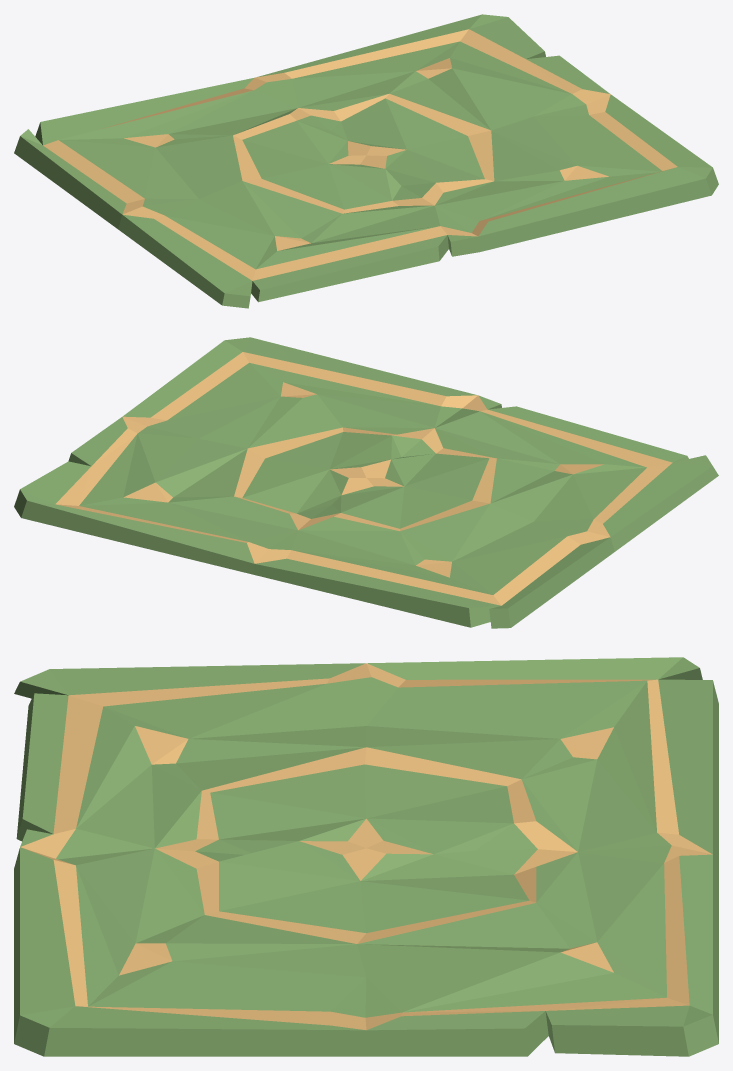
File: SquareRug_Green.fbx
The picture shows the model from 3 angles, top to bottom: view 1: azimuth 30°, elevation 25°; view 2: azimuth 150°, elevation 25°; view 3: azimuth 270°, elevation 25°; orthographic projection. The views are drawn at different scales.
Parts seen in each view (by area): view 1: SquareRug_Green; view 2: SquareRug_Green; view 3: SquareRug_Green.
Boxes of the visible parts, bbox=[...] form: SquareRug_Green: bbox=[14, 14, 718, 308]; SquareRug_Green: bbox=[14, 337, 718, 628]; SquareRug_Green: bbox=[14, 657, 718, 1056].
Bounding box in the file's own units: 10.8 × 0.4311 × 8.57.
